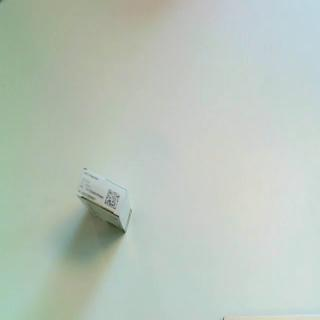nobligan_retard200mg: (75, 166, 133, 236)
